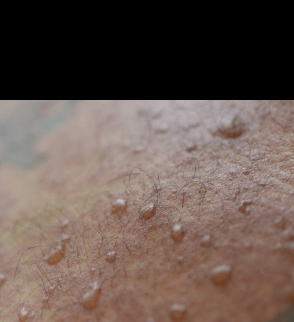SJS-TEN: (0, 103, 294, 322)
